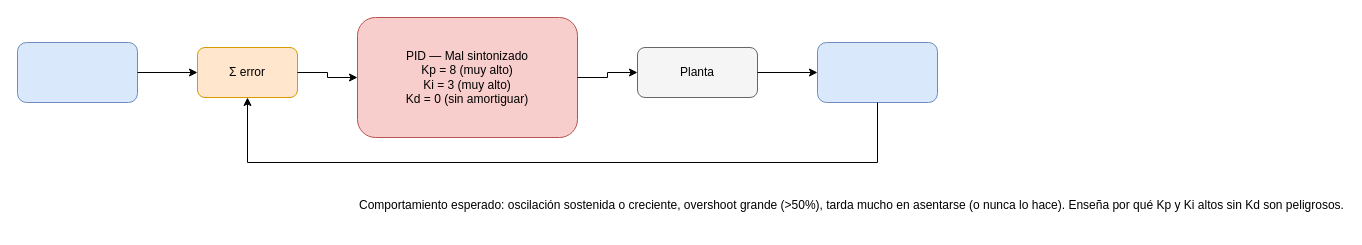
The diagram is 1362 pixels wide and 245 high, and some of its shapes have lost their labels. Each missing label, with the centre of its shape:
Salida y(t): (877,72)
Setpoint: (77,72)
